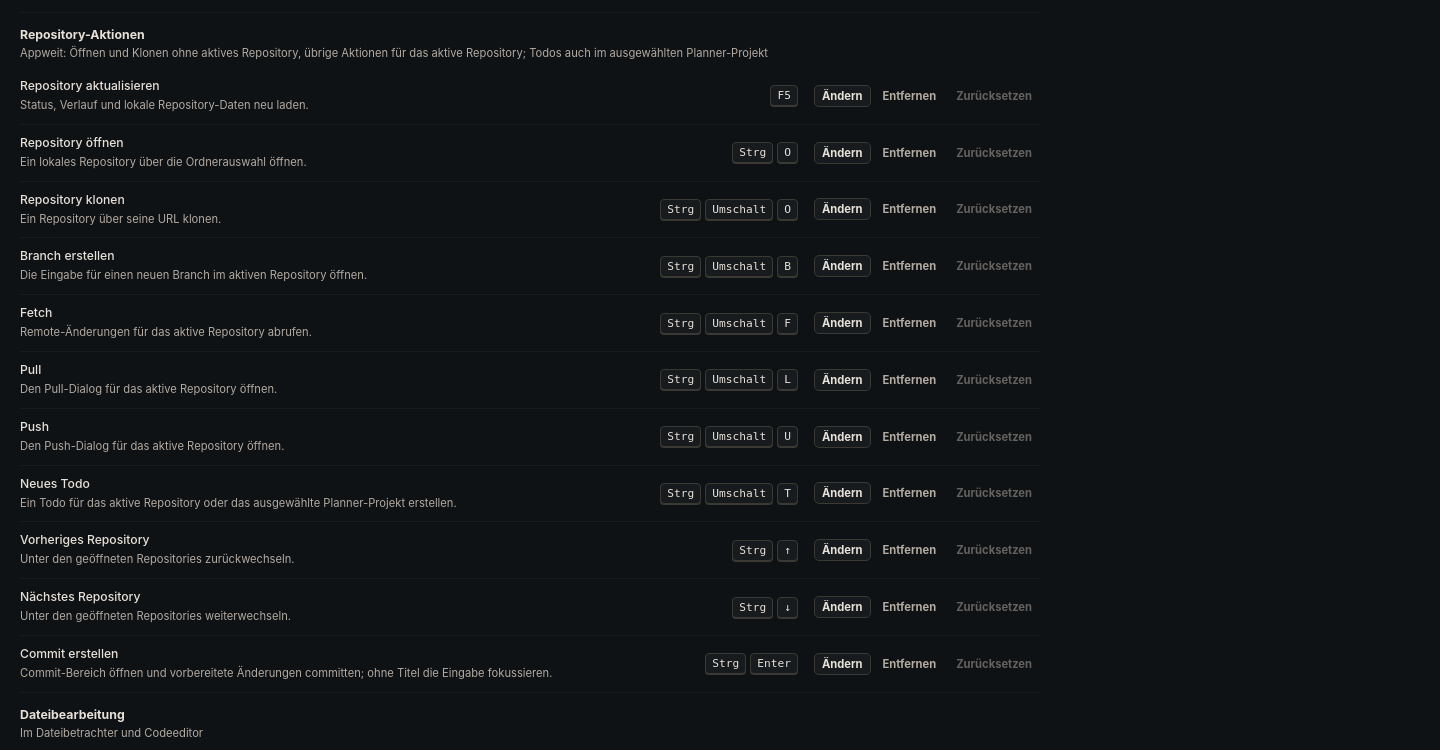
Scenario: keyboard shortcuts settings › records, disables and resets pull
(page scrolled)
Click the 7th button "Ändern": point(842, 380) [814,369,870,391]
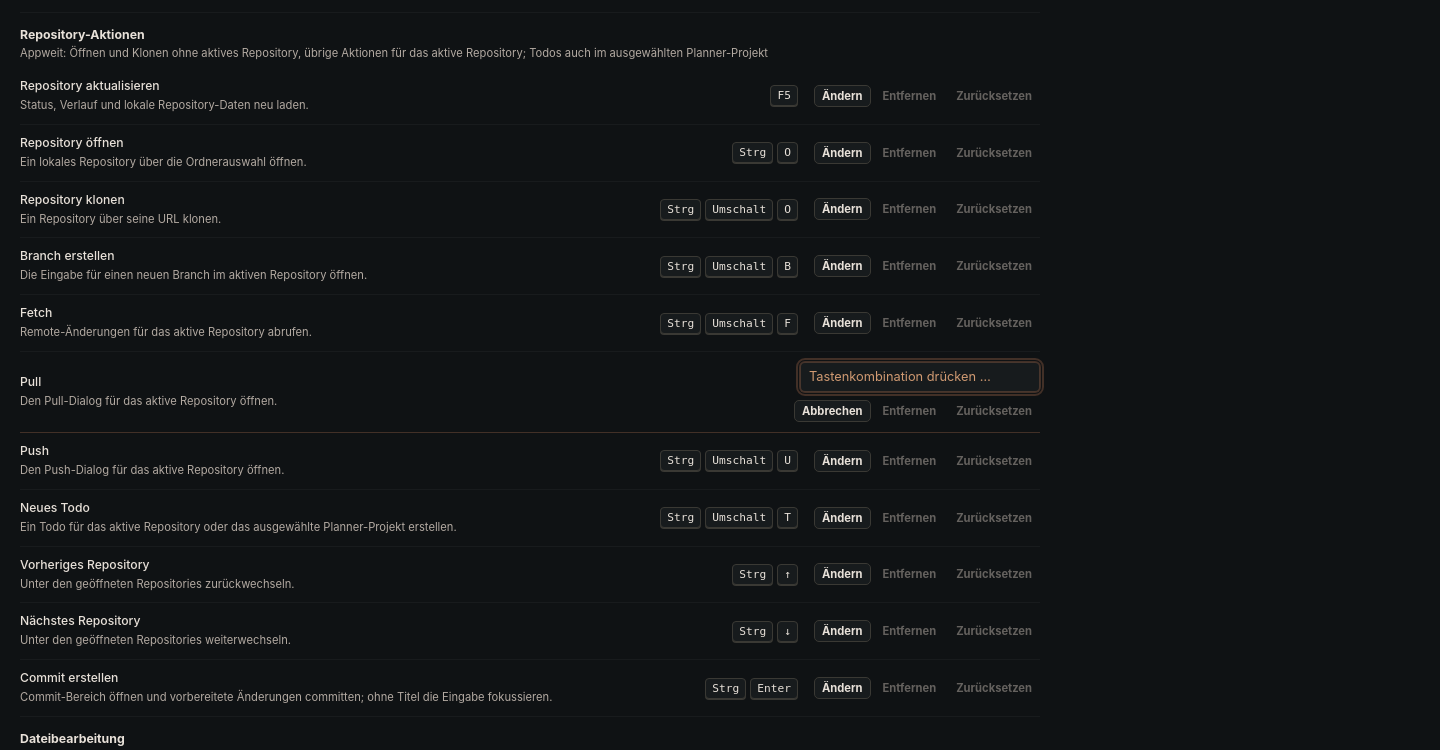
Press F9 in the field named "Tastenkürzel für Pull aufnehmen", box [800,362,1040,392]
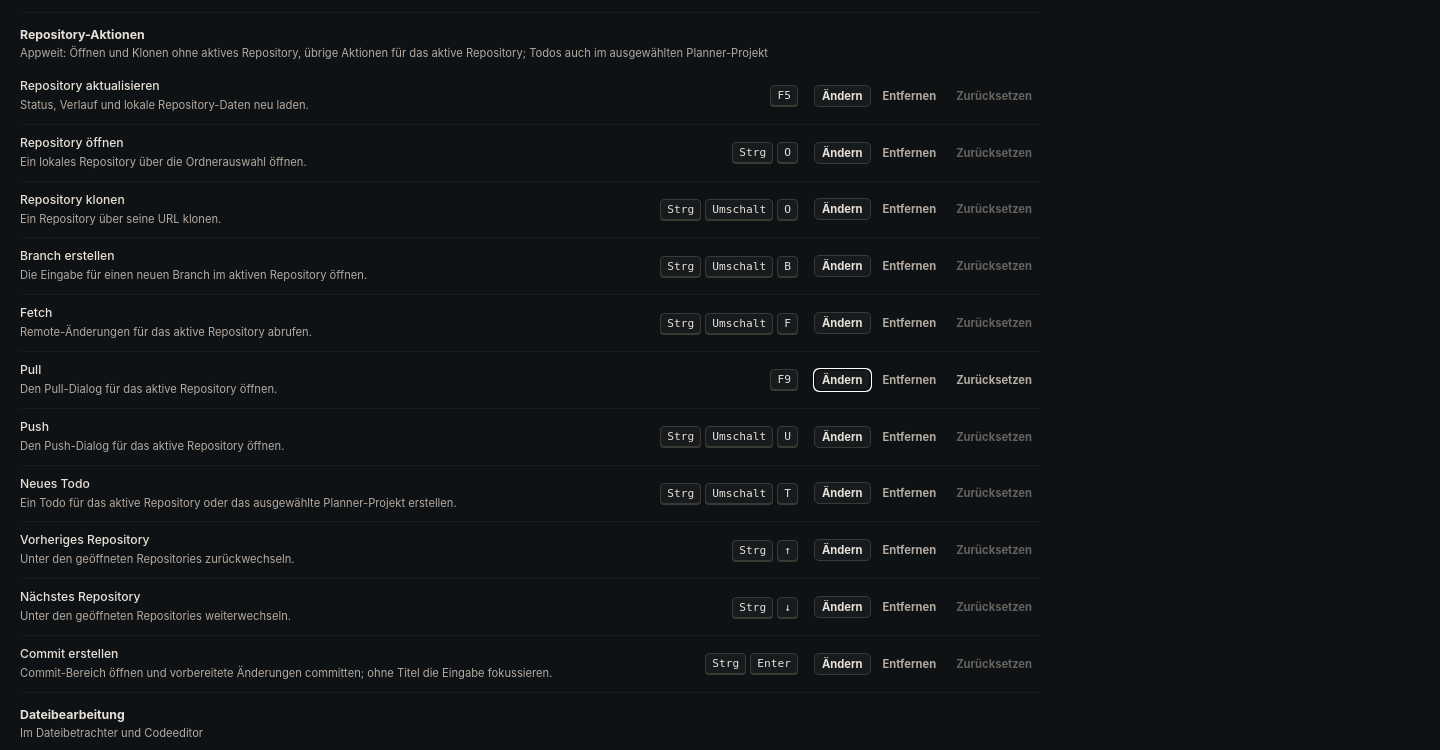
Click the button "Entfernen" in the row of "F9": point(909, 380) [875,369,944,391]
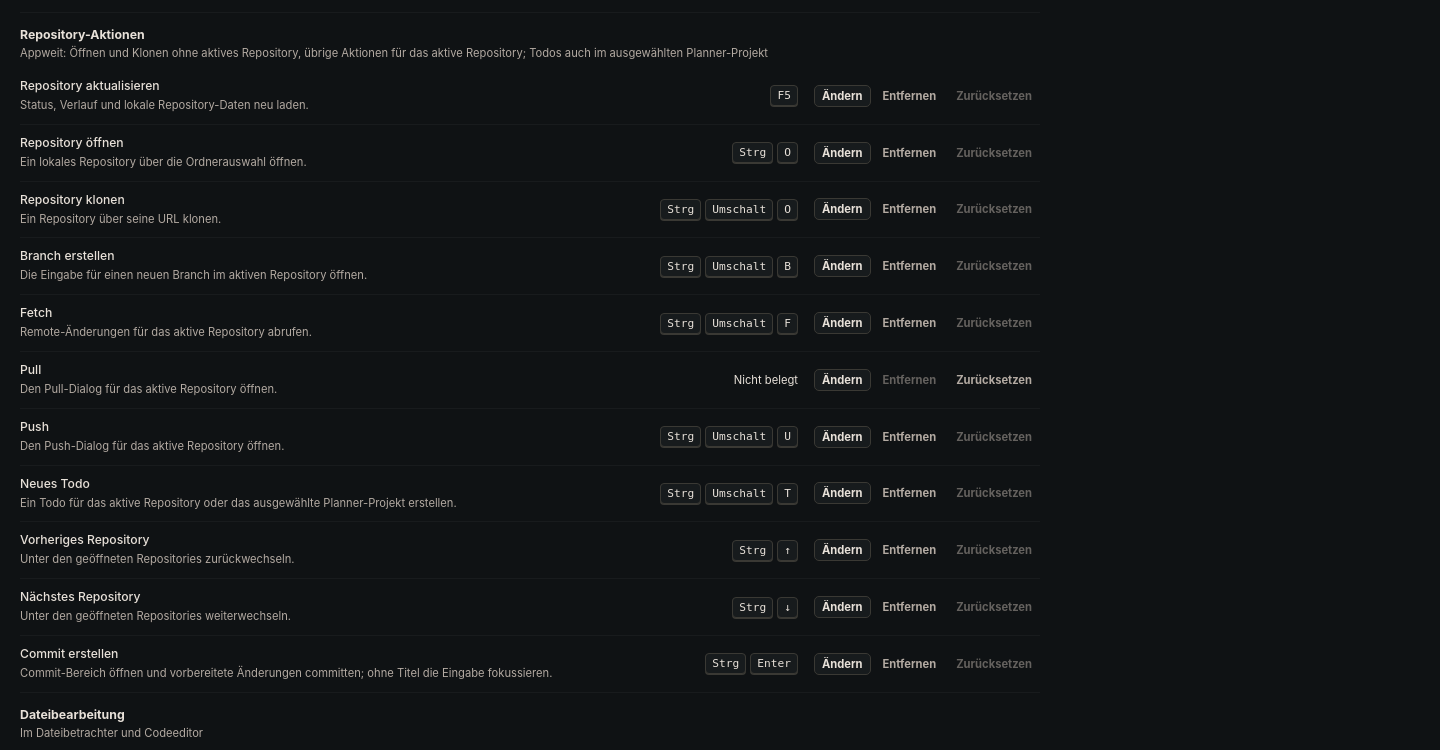
Click the button "Zurücksetzen" in the row of "Nicht belegt": point(994, 380) [948,369,1040,391]
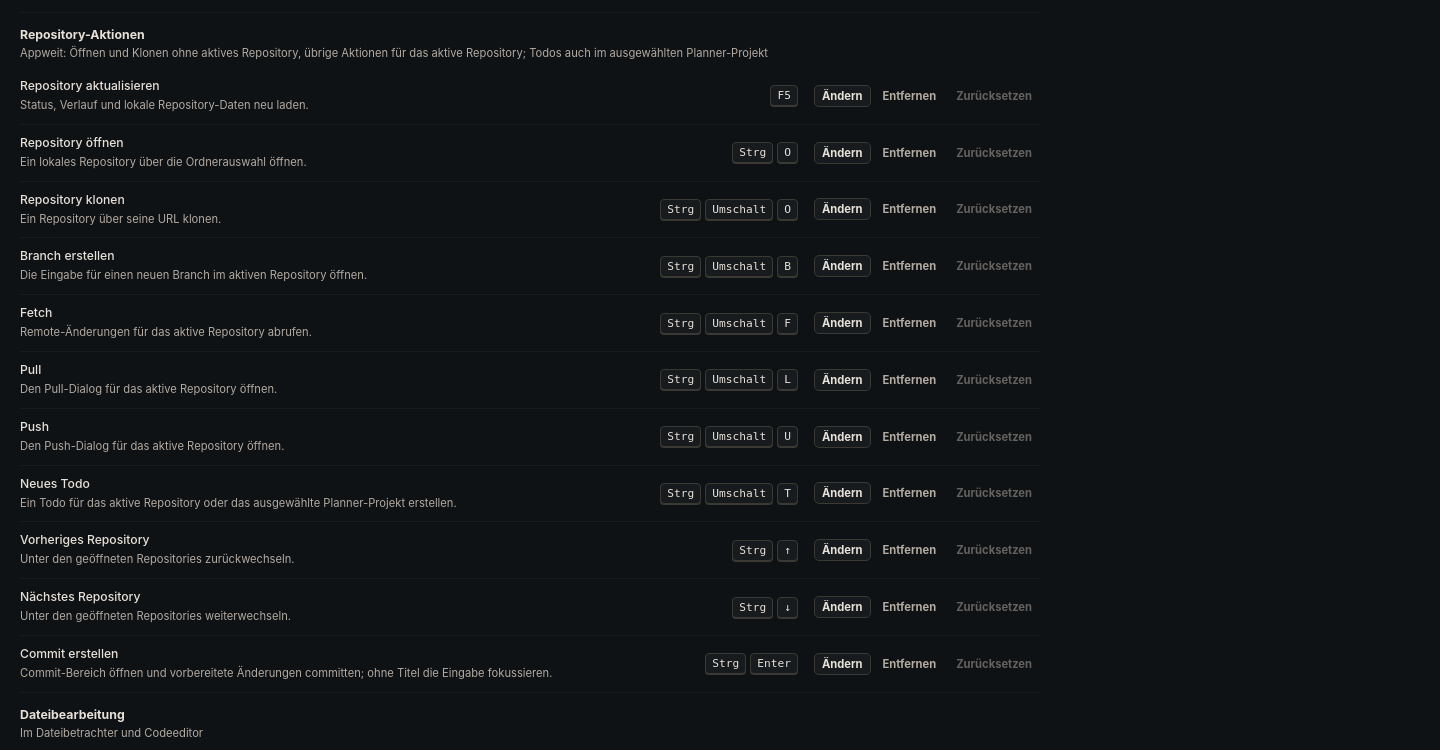
Check: the element with class "shortcut-binding" reads "Strg Umschalt L", box [660,366,798,394]
